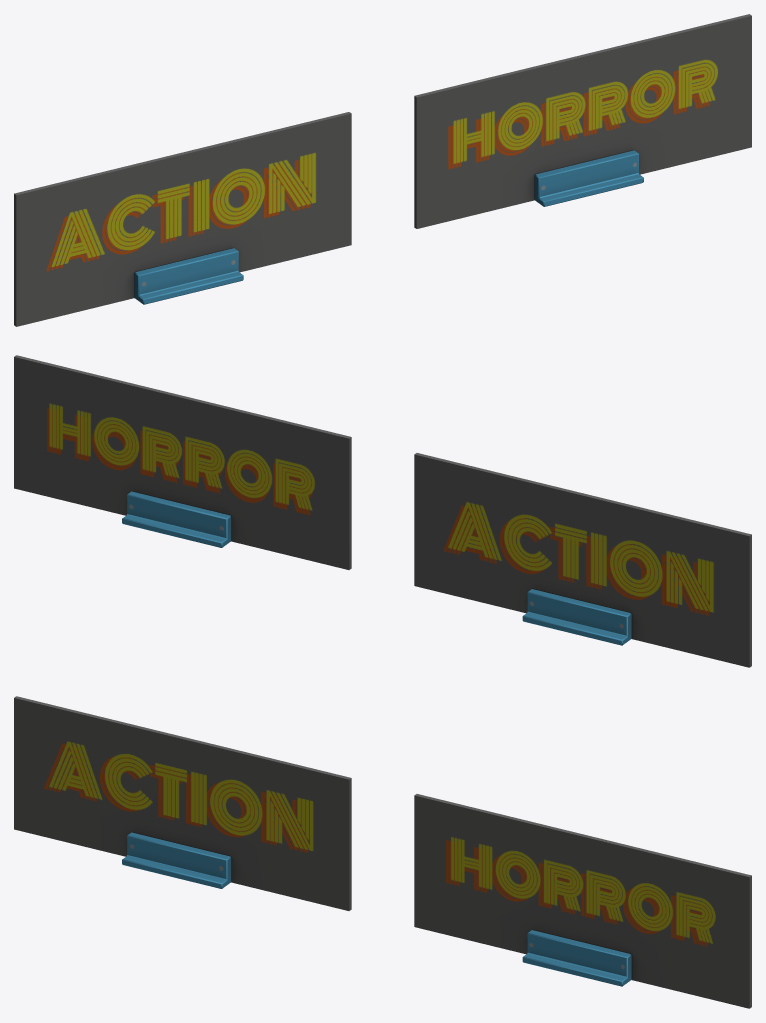
File: video_store_labels_action.obj
3 views of the same model, one above another, from view 1: azimuth 30°, elevation 25°; view 2: azimuth 150°, elevation 25°; view 3: azimuth 330°, elevation 25° (orthographic).
Visible parts, largest first — view 1: Mesh1_Group3_Group2_Group1_Model, Mesh6_Group9_Group6_Group1_Model; view 2: Mesh6_Group9_Group6_Group1_Model, Mesh1_Group3_Group2_Group1_Model; view 3: Mesh1_Group3_Group2_Group1_Model, Mesh6_Group9_Group6_Group1_Model.
Boxes of the visible parts, x1=… form: Mesh1_Group3_Group2_Group1_Model: x1=414, y1=14, x2=751, y2=228; Mesh6_Group9_Group6_Group1_Model: x1=14, y1=112, x2=351, y2=326; Mesh6_Group9_Group6_Group1_Model: x1=414, y1=453, x2=751, y2=667; Mesh1_Group3_Group2_Group1_Model: x1=14, y1=355, x2=351, y2=569; Mesh1_Group3_Group2_Group1_Model: x1=414, y1=794, x2=751, y2=1008; Mesh6_Group9_Group6_Group1_Model: x1=14, y1=696, x2=351, y2=910.
Size of the model in its own units: 0.8776 by 0.15 by 0.0453.
Materials: 1 (1 with a texture image).
